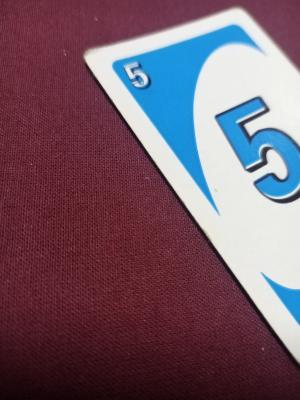blue: (105, 53, 291, 110)
num_5: (124, 60, 159, 97)
